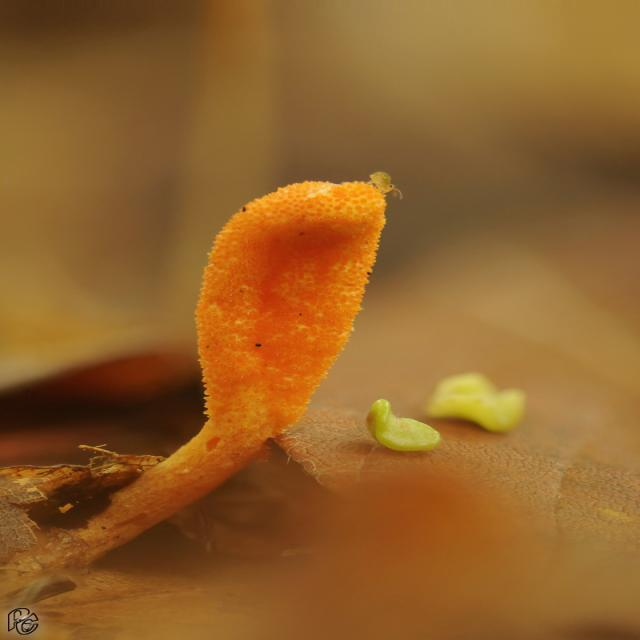Cordyceps militaris: (1, 181, 387, 597)
